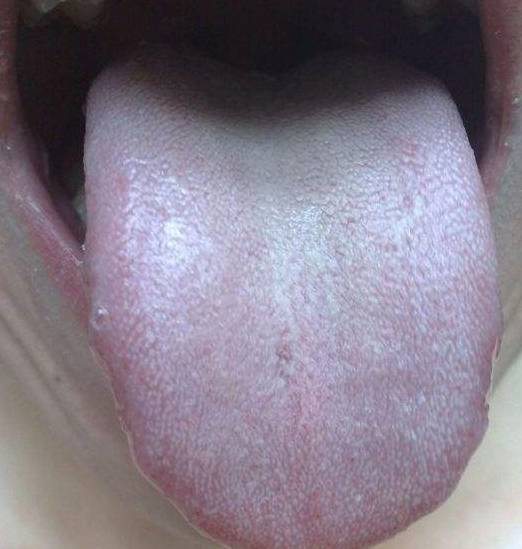baitaishe: (83, 56, 503, 549)
